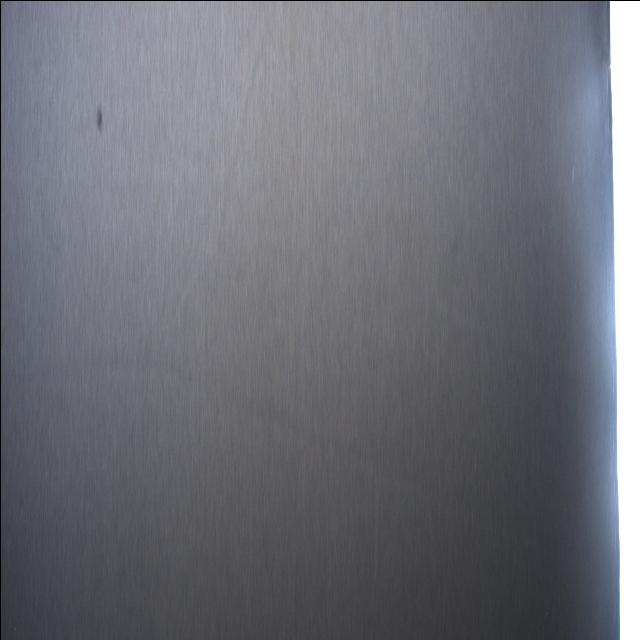crease: (199, 349, 618, 610), (413, 276, 617, 450), (206, 11, 276, 305), (2, 331, 194, 421)
